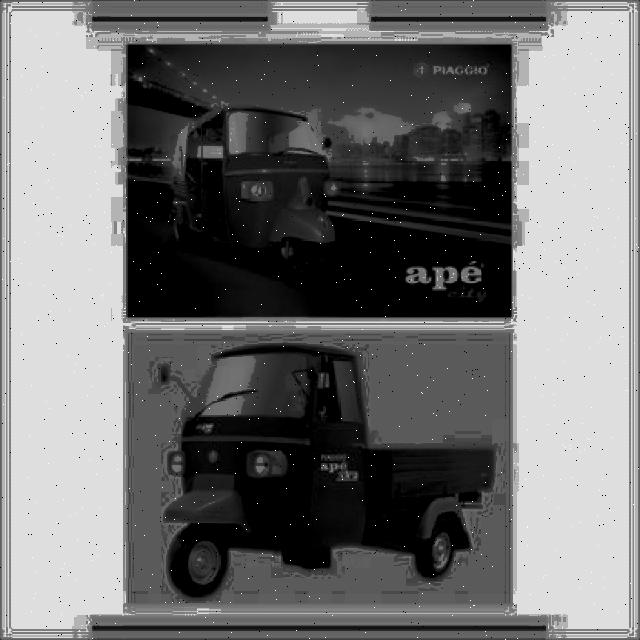Auto-Rickshaw: (160, 347, 495, 596), (171, 106, 336, 280)
